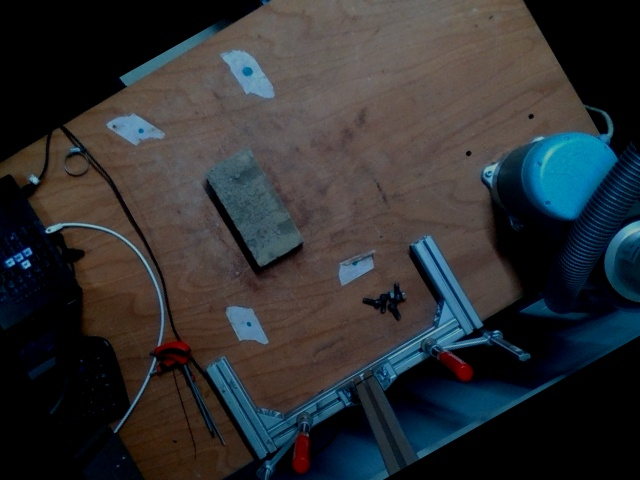brick: (206, 150, 300, 264)
